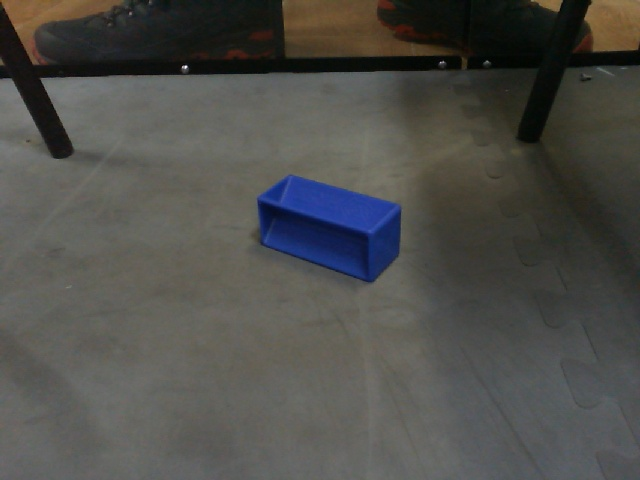BlueSample: (252, 173, 406, 290)
